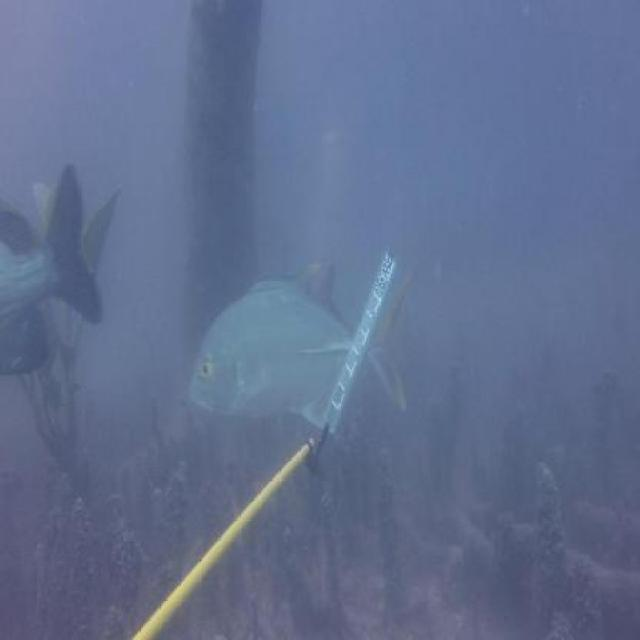Caranx: (188, 260, 415, 435)
acanthopagrus_palmaris: (0, 164, 112, 387), (252, 262, 298, 302)
